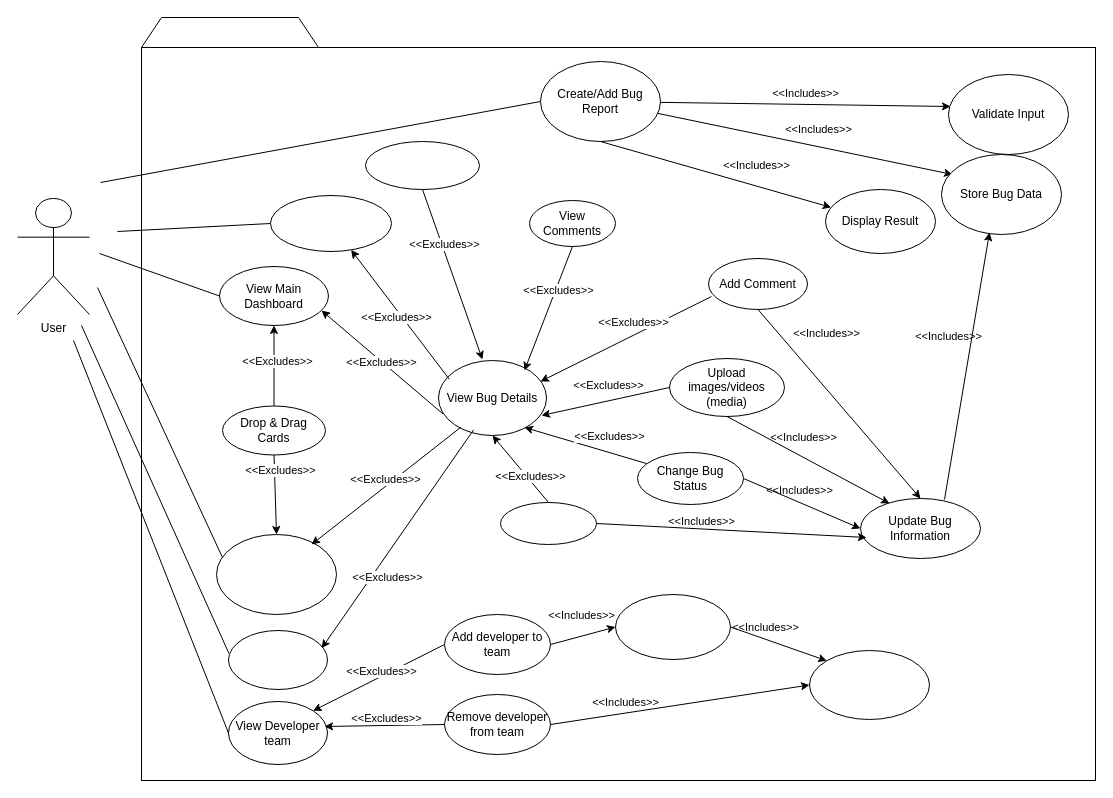
The diagram is 1113 pixels wide and 798 high, and some of its shapes have lost their labels. The box of each missing label's shape, as (x1, y1, x2, y2) in pixels:
Bug Tracking System: (140, 16, 318, 48)
Resolve Bug: (500, 502, 596, 544)
Search Bugs: (228, 630, 328, 690)
Update Developer Team Data: (808, 650, 930, 720)
Validate Developer: (614, 594, 730, 660)
View History: (270, 194, 392, 252)
View Personal Dashboard: (216, 534, 336, 614)
View Uploaded Media: (364, 140, 480, 190)
